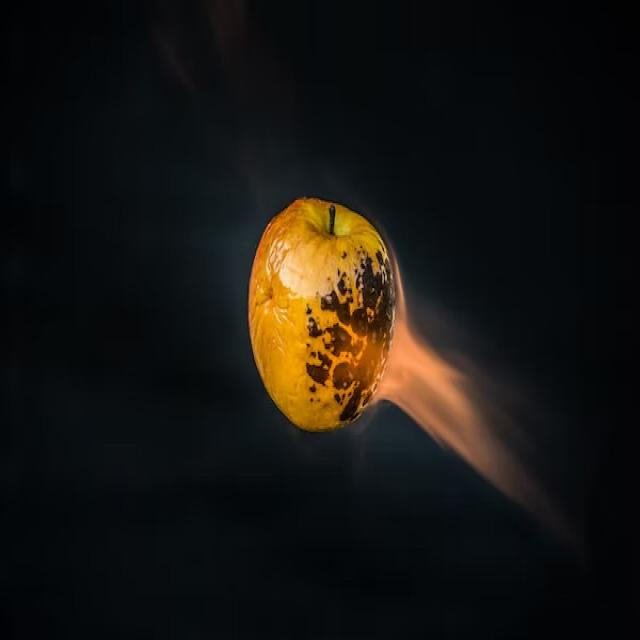Rotten: (245, 197, 396, 430)
